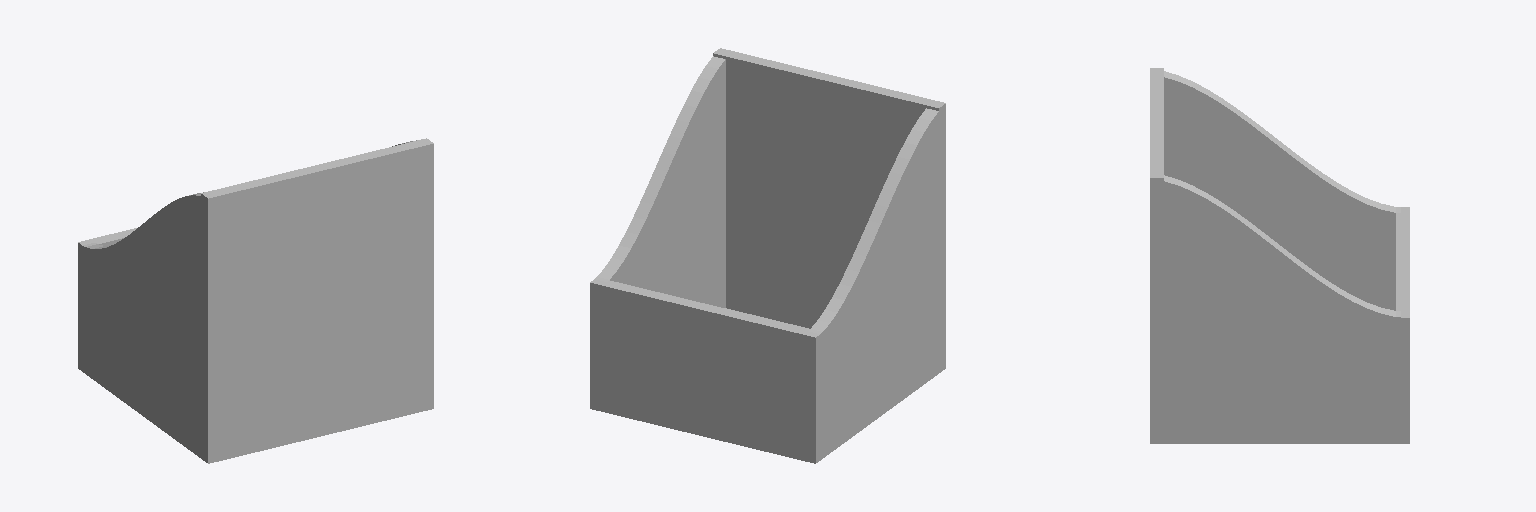
The model's file is showcase.obj.
3 renders of one model, left to right at view 1: azimuth 30°, elevation 25°; view 2: azimuth 150°, elevation 25°; view 3: azimuth 270°, elevation 25°, orthographic.
Visible parts, largest first — view 1: Cube; view 2: Cube; view 3: Cube.
Boxes of the visible parts, box(x1,y1,x2,y2) form: Cube: box(78, 138, 433, 463); Cube: box(590, 48, 945, 463); Cube: box(1150, 68, 1409, 443).
Size of the model in its own units: 2 by 2.25 by 2.